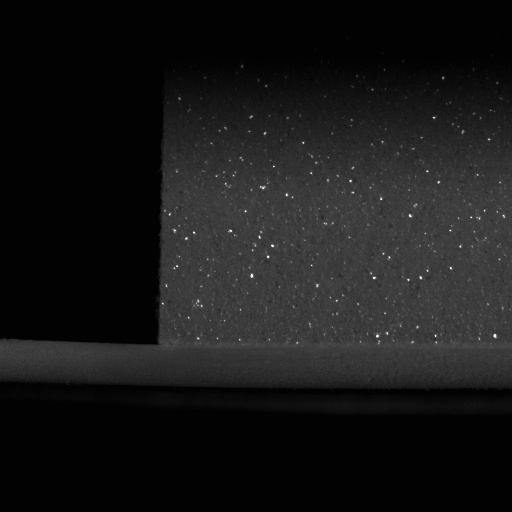changdai: (0, 337, 160, 389)
